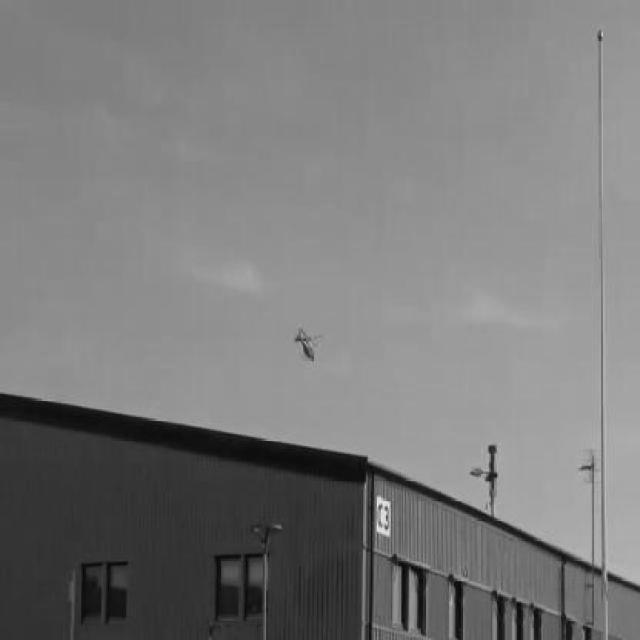helikopter: (294, 327, 322, 362)
